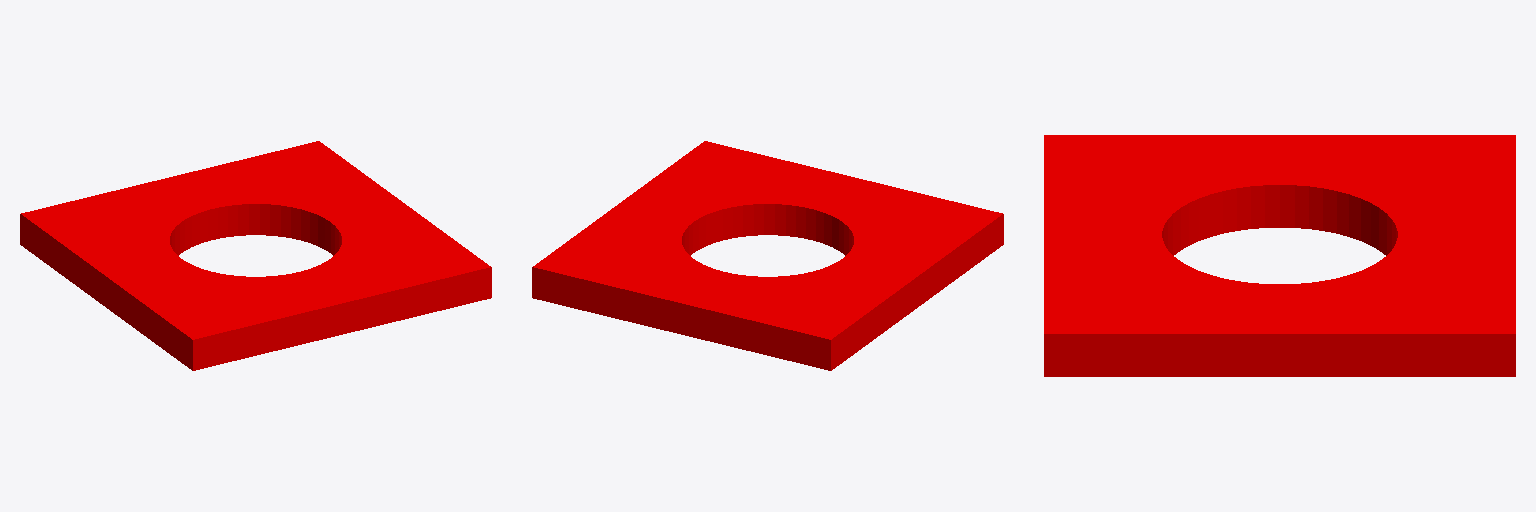
robot.urdf — circular_window:
<?xml version="1.0"?>
<robot name="circular_window">
  <link name="base_link">
    <visual>
      <geometry>
        <mesh filename="circular_window.stl" scale="0.005 0.005 0.005"/>
      </geometry>
      <material name="red">
            <color rgba="1 0 0 1"/>
      </material>
    </visual>

    <collision>
      <geometry>
        <mesh filename="circular_window.stl" scale="0.005 0.005 0.005"/>
      </geometry>
    </collision>

    <inertial>
        <origin xyz="0 0 0" rpy="0 0 0" />
        <mass value="0.1" />
        <inertia ixx="0.1" ixy="0.1" ixz="0.1" iyy="0.1" iyz="0.1" izz="0.1" />
    </inertial>

  </link>
</robot>

--- Render facts (derived) ---
The picture shows the robot from 3 angles, left to right: view 1: azimuth 30°, elevation 25°; view 2: azimuth 150°, elevation 25°; view 3: azimuth 270°, elevation 25°; orthographic projection.
Model circular_window with 1 links and 0 joints (none), rooted at base_link, posed every joint at zero.
Links seen in each view (by area): view 1: base_link; view 2: base_link; view 3: base_link.
Boxes of the visible links, x1,y1,x2,y2 form: base_link: (20, 141, 491, 370); base_link: (532, 141, 1003, 370); base_link: (1044, 135, 1515, 376).
Bounding box of the posed robot: 0.5 × 0.5 × 0.05 m (x, y, z).
Meshes: 1 distinct files referenced, 1 mesh visuals loaded (1 binary STL).